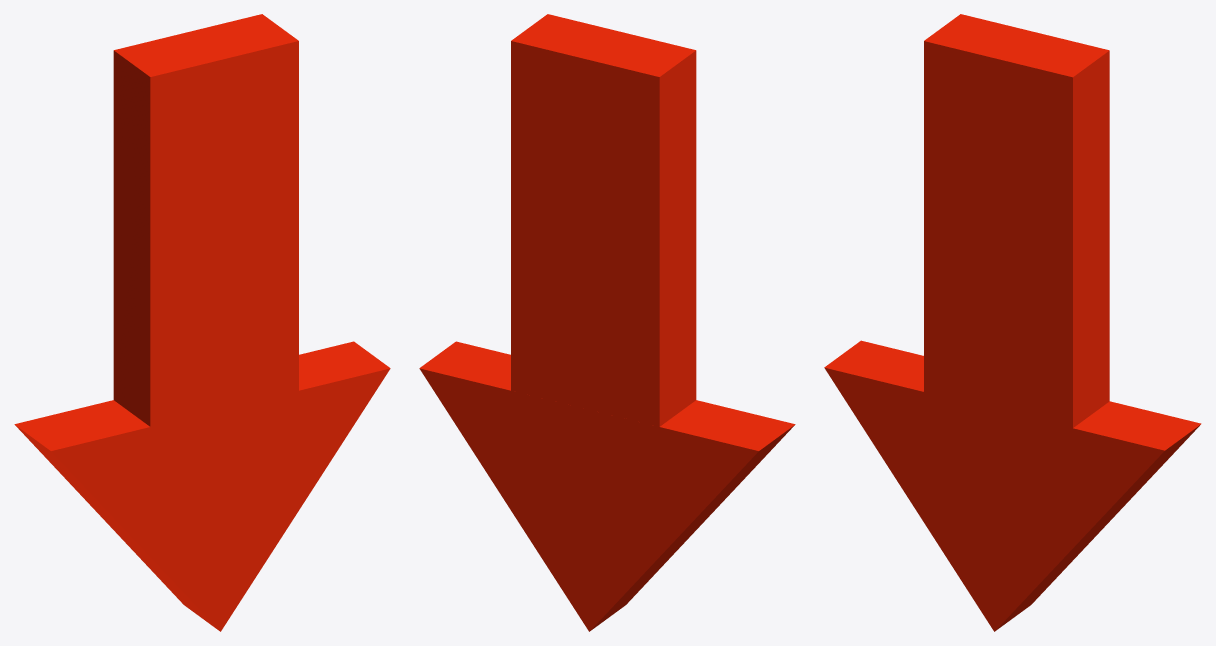
The model's file is arrow_down.dae.
3 views of the same model, side by side, from view 1: azimuth 30°, elevation 25°; view 2: azimuth 150°, elevation 25°; view 3: azimuth 330°, elevation 25° (orthographic).
Parts seen in each view (by area): view 1: Box, Box1; view 2: Box, Box1; view 3: Box, Box1.
Boxes of the visible parts, x1,y1,x2,y2 form: Box: (113,14,298,432); Box1: (14,341,390,631); Box: (511,14,696,426); Box1: (419,341,795,631); Box: (924,14,1109,433); Box1: (824,340,1201,631).
Size of the model in its own units: 0.7999 by 1.29 by 0.1501.
